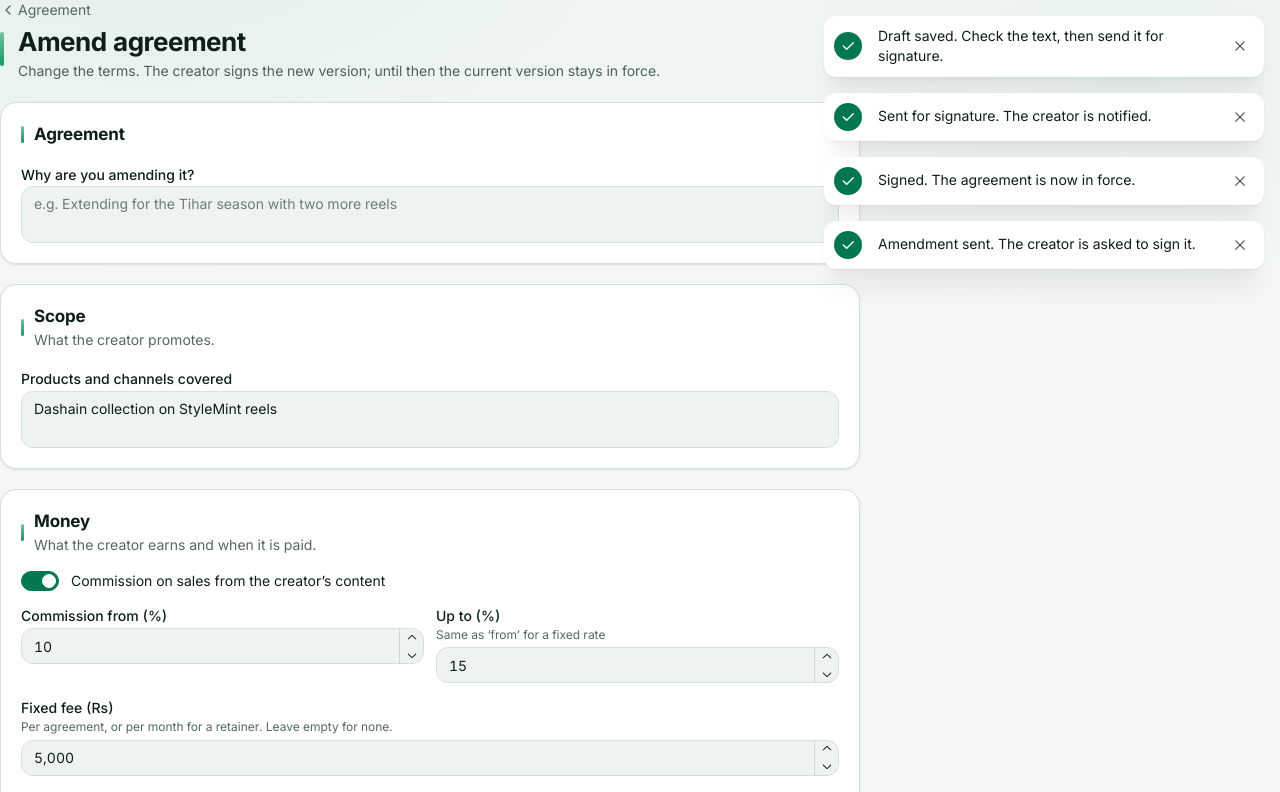
Test: amend and terminate › does not amend when the seller cancels the confirmation
The width and height of the screenshot is (1280, 792).
Step 1. Type "Change" into the text box labelled "Why are you amending it?" → {"x": 430, "y": 215}, box [21,186,839,243]
(page scrolled)
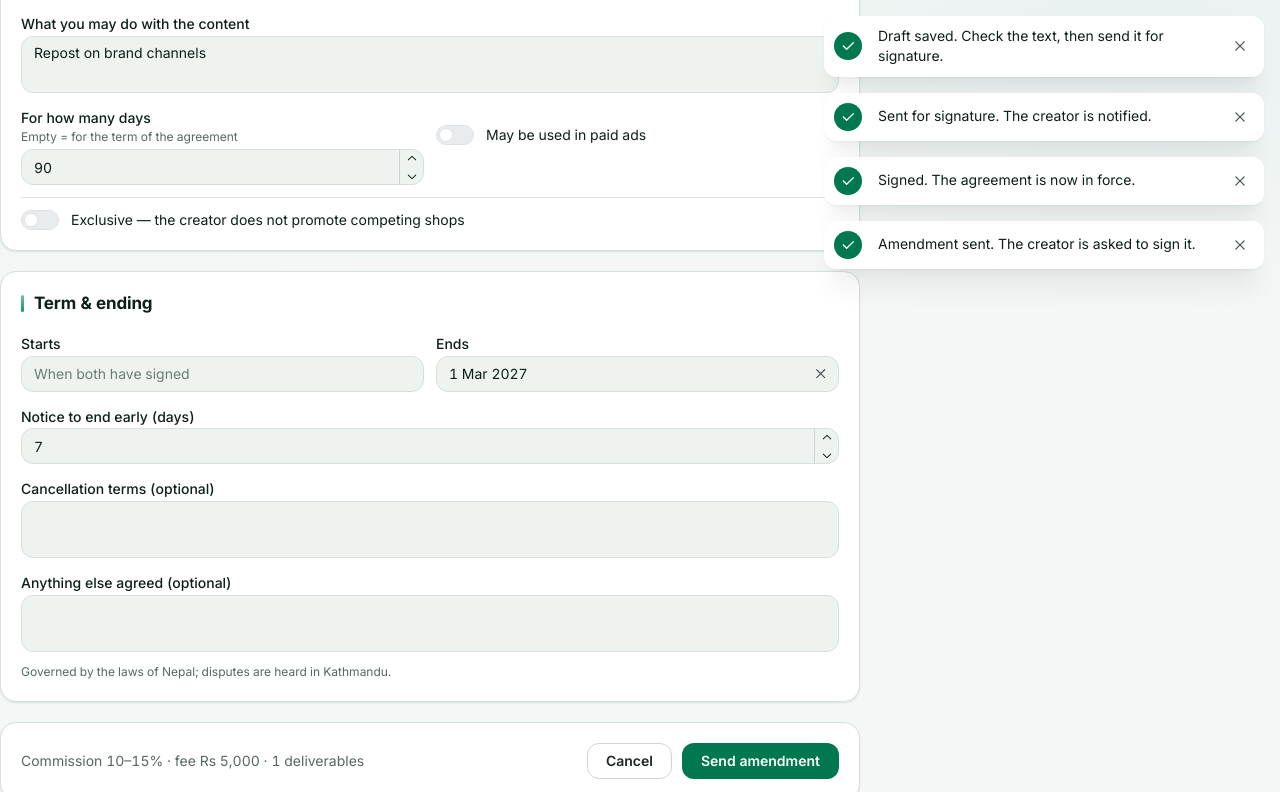
Step 2. Click the button "Send amendment" → {"x": 760, "y": 761}, box [682,743,839,779]
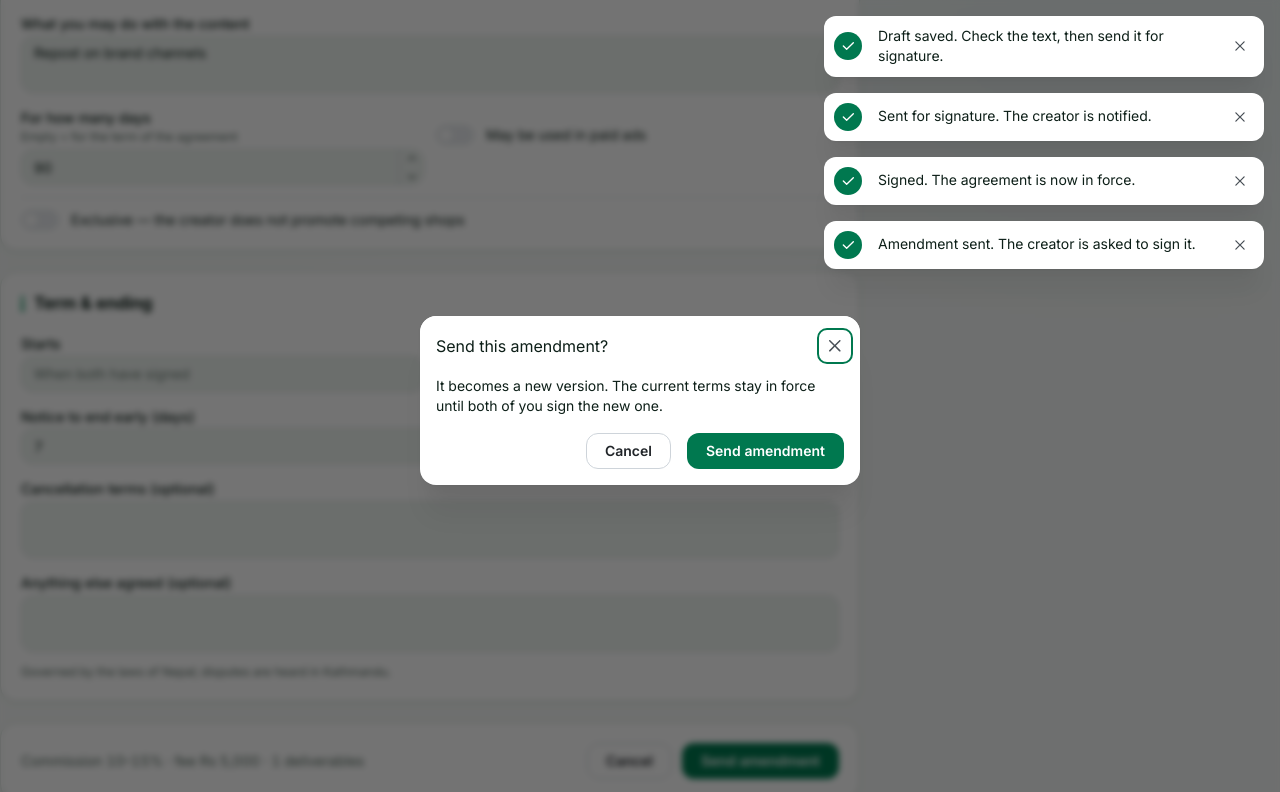
Step 3. Click the button "Cancel" → {"x": 628, "y": 450}, box [586,432,671,468]
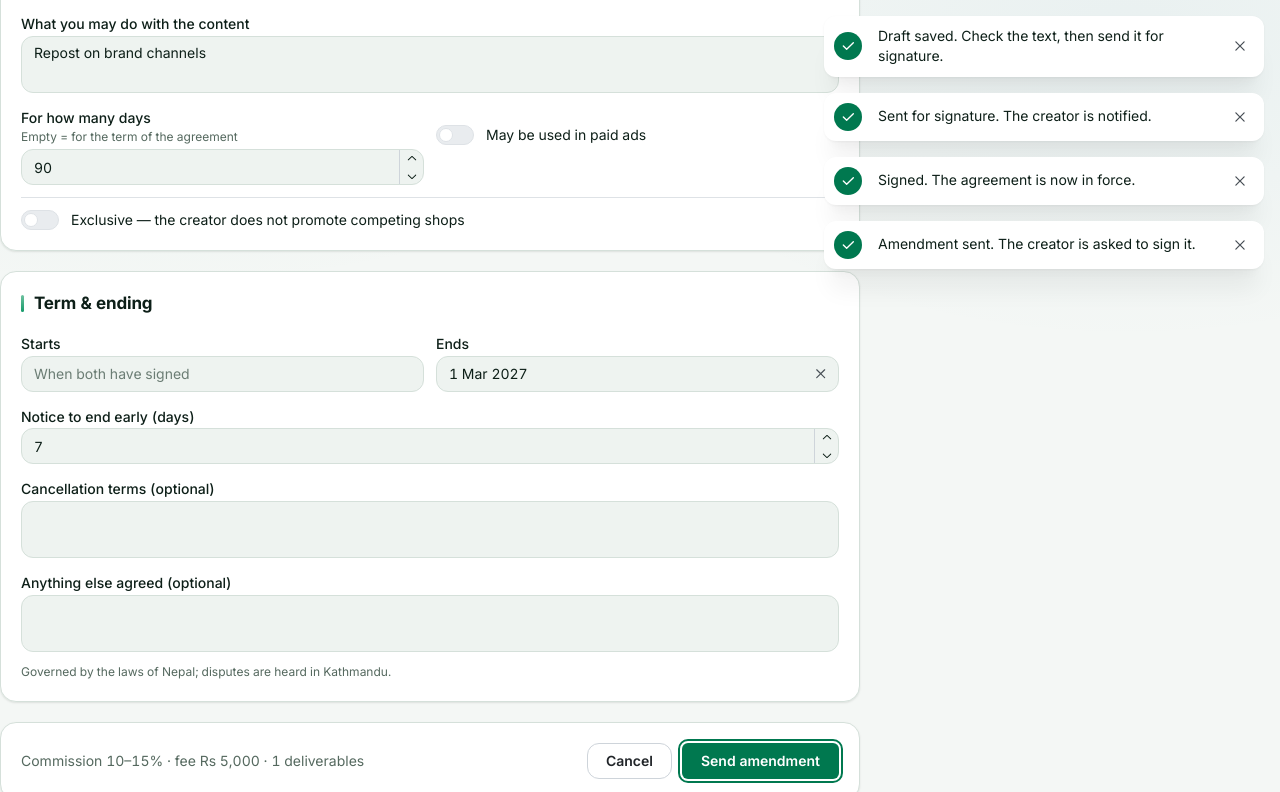
Expected: the text "current terms stay in force" is gone
